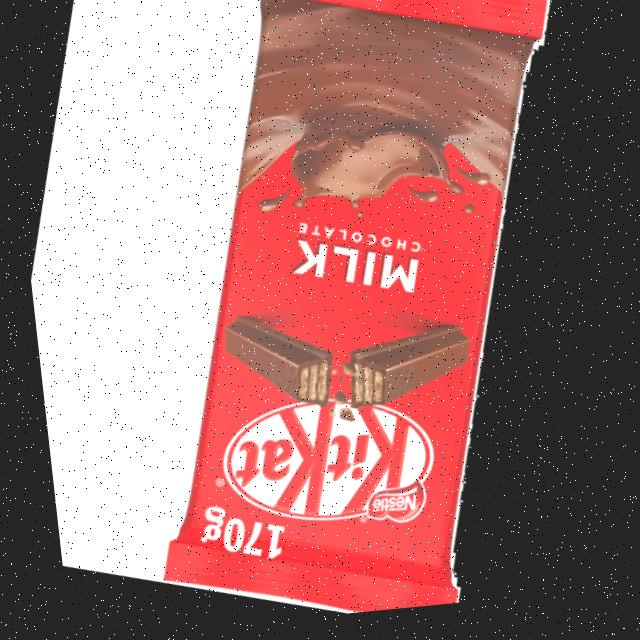kitkat: (95, 0, 595, 633)
